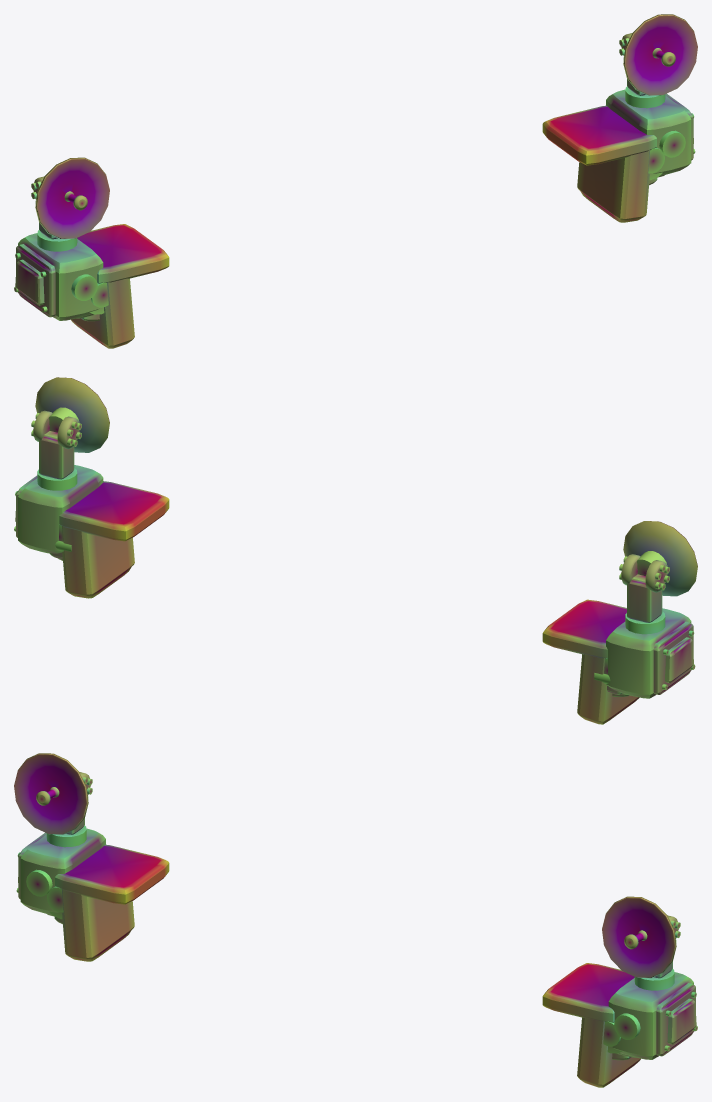
Rendered from llm_gen_shoulder_pods_110_dc6f07.glb.
The picture shows the model from 3 angles, top to bottom: view 1: azimuth 30°, elevation 25°; view 2: azimuth 150°, elevation 25°; view 3: azimuth 330°, elevation 25°; orthographic projection.
Visible parts, largest first — view 1: adapter_shoulder_yoke_r, adapter_shoulder_yoke_l, parabolic_dish_5_cobalt_anodized_r, parabolic_dish_5_cobalt_anodized_l, radar_housing_0_cobalt_anodized_l, radar_housing_0_cobalt_anodized_r, adapter_sub_ew_bezel_dark_7_adapter_dark_l, ew_side_plate_blue_8_adapter_dark_l, recon_optic_9_optic_cyan_l, recon_optic_9_optic_cyan_r, adapter_sub_azimuth_base_dark_1_adapter_dark_r, adapter_sub_azimuth_base_dark_1_adapter_dark_l; view 2: adapter_shoulder_yoke_r, adapter_shoulder_yoke_l, radar_housing_0_cobalt_anodized_r, radar_housing_0_cobalt_anodized_l, parabolic_dish_5_cobalt_anodized_r, parabolic_dish_5_cobalt_anodized_l, adapter_sub_dish_pedestal_dark_2_adapter_dark_r, adapter_sub_dish_pedestal_dark_2_adapter_dark_l, adapter_sub_ew_bezel_dark_7_adapter_dark_l, ew_side_plate_blue_8_adapter_dark_l, servo_3_servo_accent_r, servo_3_servo_accent_l (+2 smaller); view 3: adapter_shoulder_yoke_l, adapter_shoulder_yoke_r, parabolic_dish_5_cobalt_anodized_l, parabolic_dish_5_cobalt_anodized_r, radar_housing_0_cobalt_anodized_r, radar_housing_0_cobalt_anodized_l, adapter_sub_ew_bezel_dark_7_adapter_dark_r, ew_side_plate_blue_8_adapter_dark_r, recon_optic_9_optic_cyan_r, recon_optic_9_optic_cyan_l, adapter_sub_azimuth_base_dark_1_adapter_dark_l, adapter_sub_azimuth_base_dark_1_adapter_dark_r.
Part boxes in pixels (bbox=[...]): adapter_shoulder_yoke_r: bbox=[542, 105, 665, 222]; adapter_shoulder_yoke_l: bbox=[71, 224, 169, 348]; parabolic_dish_5_cobalt_anodized_r: bbox=[623, 14, 697, 95]; parabolic_dish_5_cobalt_anodized_l: bbox=[35, 157, 109, 239]; radar_housing_0_cobalt_anodized_l: bbox=[18, 233, 103, 320]; radar_housing_0_cobalt_anodized_r: bbox=[606, 89, 691, 175]; adapter_sub_ew_bezel_dark_7_adapter_dark_l: bbox=[16, 244, 55, 317]; ew_side_plate_blue_8_adapter_dark_l: bbox=[14, 253, 47, 312]; recon_optic_9_optic_cyan_l: bbox=[71, 274, 97, 300]; recon_optic_9_optic_cyan_r: bbox=[659, 130, 685, 157]; adapter_sub_azimuth_base_dark_1_adapter_dark_r: bbox=[625, 86, 665, 108]; adapter_sub_azimuth_base_dark_1_adapter_dark_l: bbox=[37, 230, 77, 251]; adapter_shoulder_yoke_r: bbox=[58, 481, 169, 598]; adapter_shoulder_yoke_l: bbox=[542, 599, 639, 724]; radar_housing_0_cobalt_anodized_r: bbox=[18, 465, 103, 553]; radar_housing_0_cobalt_anodized_l: bbox=[606, 608, 691, 698]; parabolic_dish_5_cobalt_anodized_r: bbox=[35, 377, 109, 452]; parabolic_dish_5_cobalt_anodized_l: bbox=[623, 521, 697, 596]; adapter_sub_dish_pedestal_dark_2_adapter_dark_r: bbox=[39, 431, 74, 479]; adapter_sub_dish_pedestal_dark_2_adapter_dark_l: bbox=[627, 574, 662, 622]; adapter_sub_ew_bezel_dark_7_adapter_dark_l: bbox=[653, 621, 693, 694]; ew_side_plate_blue_8_adapter_dark_l: bbox=[662, 630, 695, 689]; servo_3_servo_accent_r: bbox=[33, 410, 79, 449]; servo_3_servo_accent_l: bbox=[621, 554, 667, 592]; adapter_shoulder_yoke_l: bbox=[46, 844, 169, 961]; adapter_shoulder_yoke_r: bbox=[542, 963, 640, 1087]; parabolic_dish_5_cobalt_anodized_l: bbox=[14, 753, 88, 834]; parabolic_dish_5_cobalt_anodized_r: bbox=[602, 896, 676, 978]; radar_housing_0_cobalt_anodized_r: bbox=[608, 972, 693, 1059]; radar_housing_0_cobalt_anodized_l: bbox=[20, 828, 105, 914]; adapter_sub_ew_bezel_dark_7_adapter_dark_r: bbox=[656, 983, 695, 1056]; ew_side_plate_blue_8_adapter_dark_r: bbox=[664, 992, 697, 1051]; recon_optic_9_optic_cyan_r: bbox=[614, 1013, 640, 1039]; recon_optic_9_optic_cyan_l: bbox=[26, 869, 52, 896]; adapter_sub_azimuth_base_dark_1_adapter_dark_l: bbox=[46, 825, 86, 847]; adapter_sub_azimuth_base_dark_1_adapter_dark_r: bbox=[634, 969, 674, 990].
Size of the model in its own units: 107 by 29.43 by 13.53.
